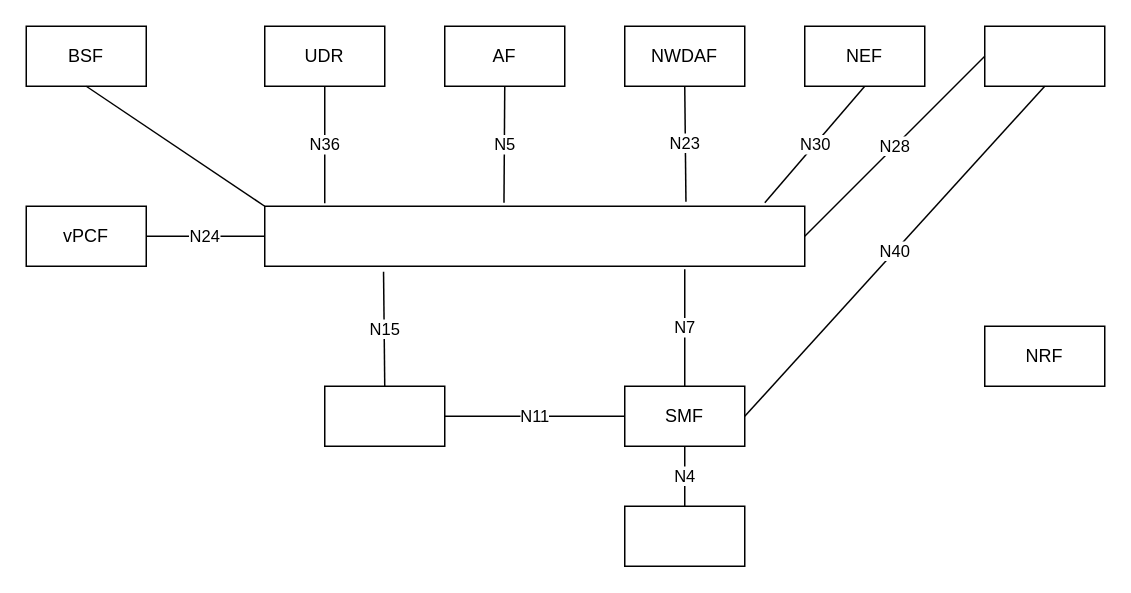
Image size: 1131x593. Some labels were removed from this diagram. Each missing label, with the box of its shape:
AMF: (323, 385, 445, 446)
CHF: (983, 25, 1105, 86)
PCF: (263, 205, 805, 266)
UPF: (623, 505, 745, 566)
